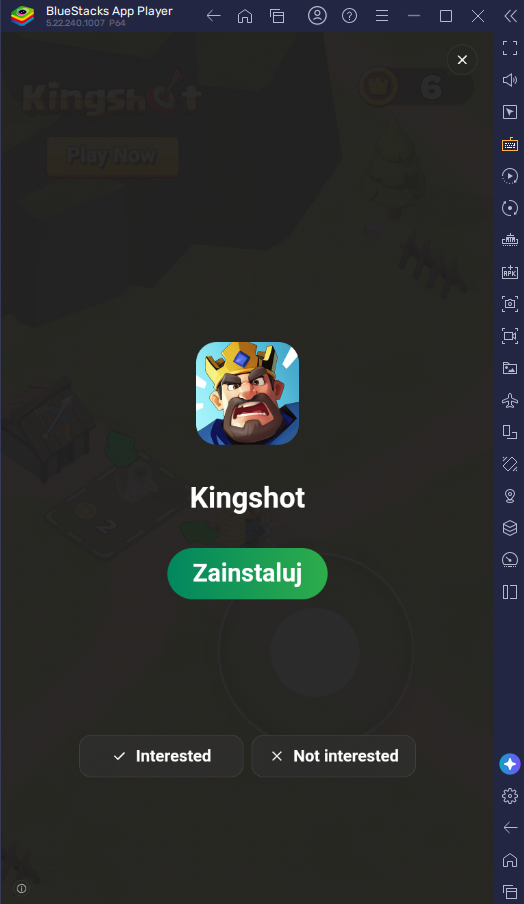close_button: (448, 46, 478, 73)
